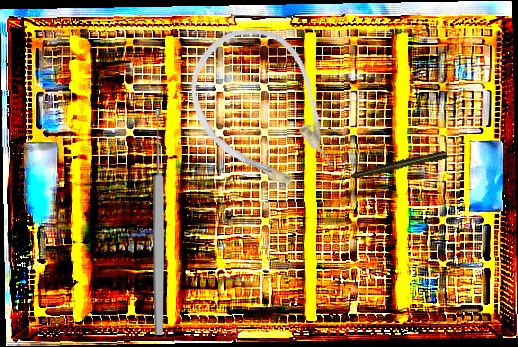Cannula: (166, 6, 362, 218)
Handpiece: (338, 149, 450, 184)
Surgical Spoon: (152, 109, 166, 335)
